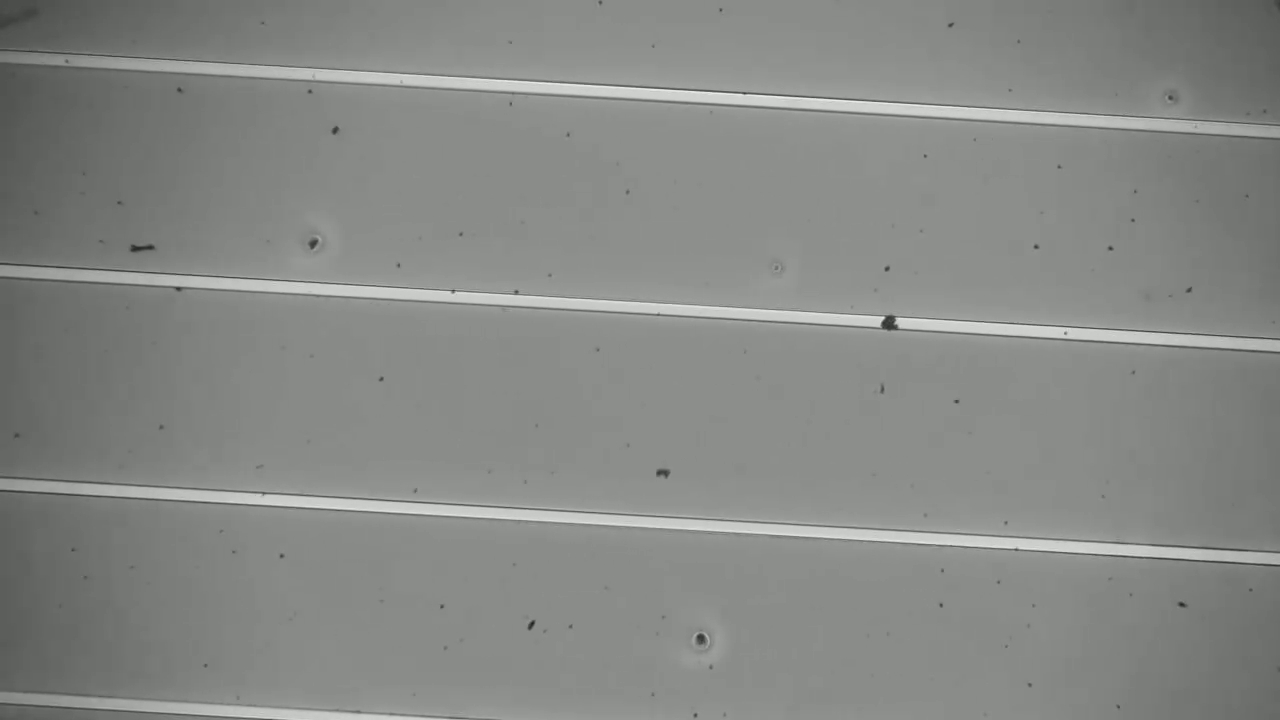stains_enbedded: (873, 310, 909, 339)
